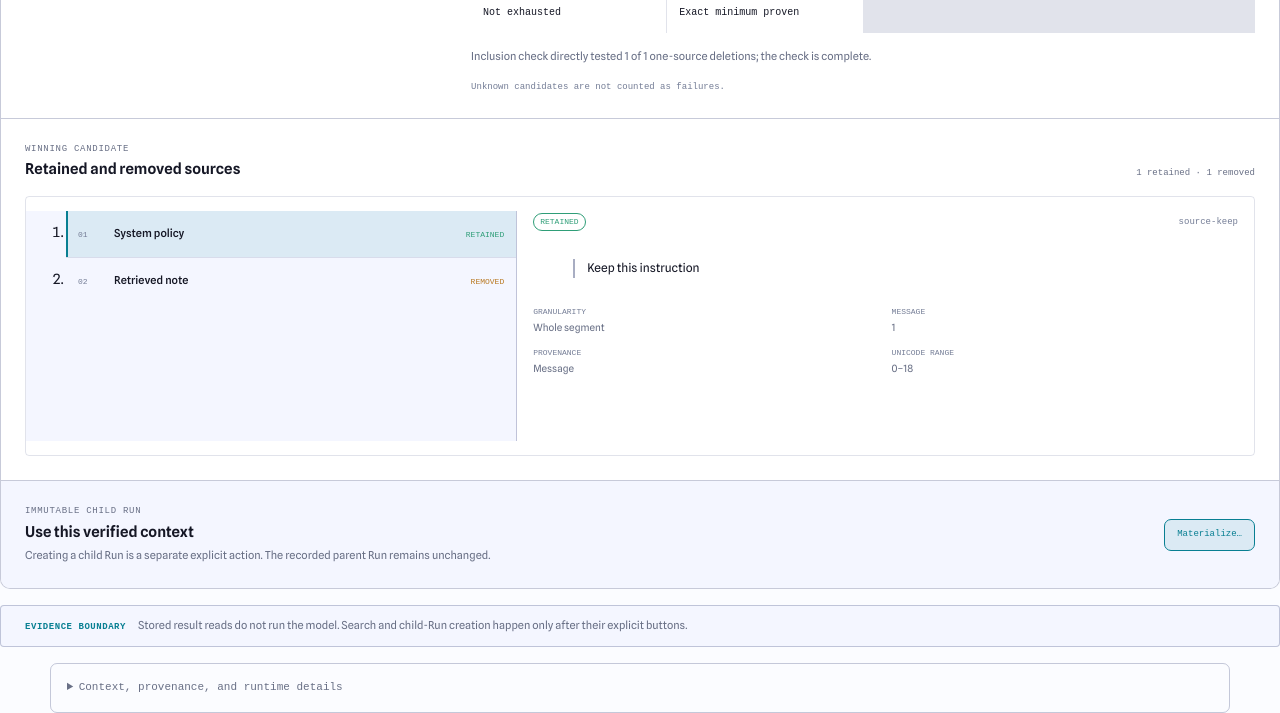
Test: Minimal Context Inspect instrument › reads durable list/detail on mount and requires a second explicit materialization click
This screenshot has width=1280, height=713.
(page scrolled)
Expected: the text "directly tested 1 of 1" is shown, [471,49,871,63]
Expected: the text "System policy" is shown, [114,226,184,240]
What coordinates should you click on to do the following:
click the button "Materialize…"
I would click on:
 (1210, 535)
Its box is [1164,519,1255,551].
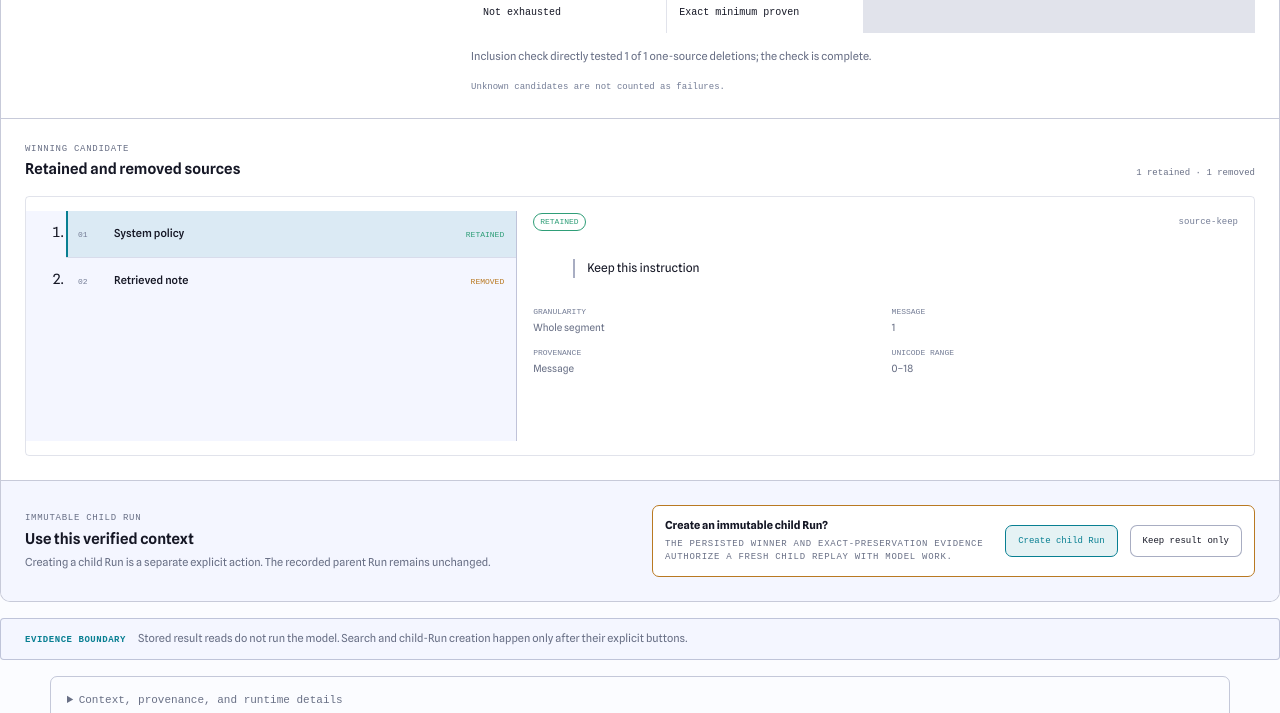
Expected: the element named "confirm minimal context child run" is shown, [652,505,1255,577]
Expected: the text "fresh child replay with model work" is shown, [665,539,983,562]
What coordinates should you click on to do the following:
click the button "Create child Run"
I would click on:
 (1061, 541)
Its box is [1005,525,1118,557].
(page scrolled)
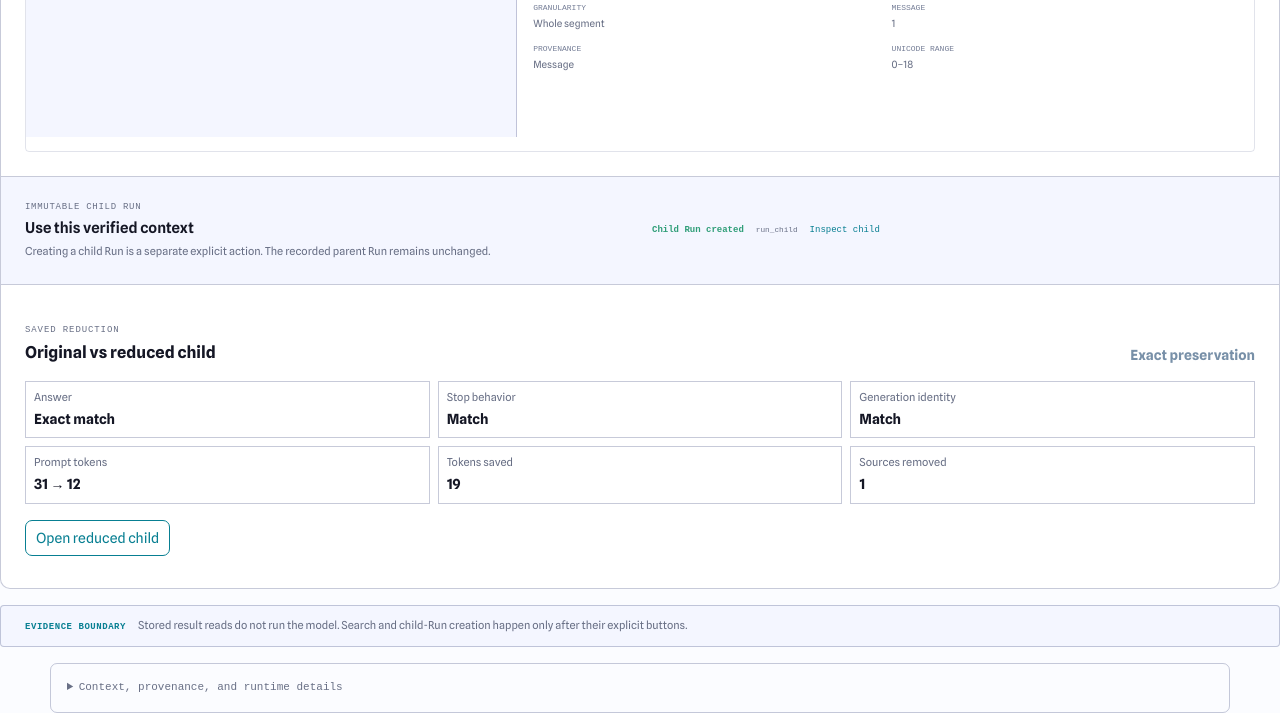
Expected: the text "Child Run created" is shown, [652,224,744,237]
Expected: the heading "Original vs reduced child" is shown, [25,341,216,365]
Expected: the text "19" is shown, [447,476,461,492]
